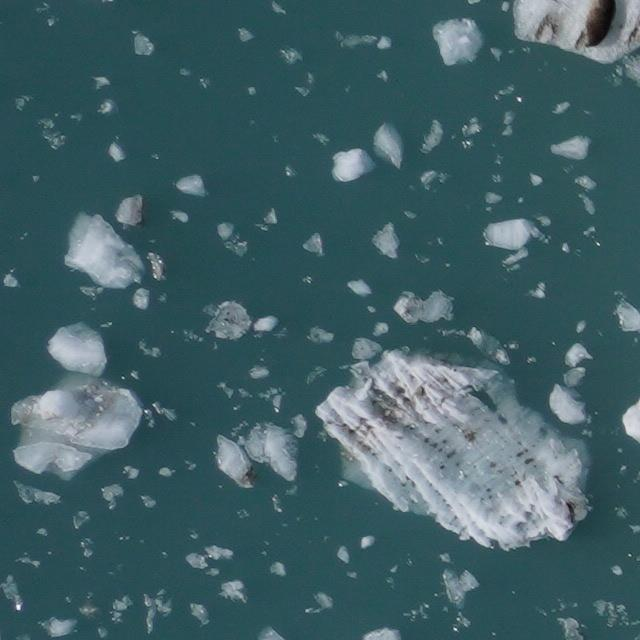seal: (575, 0, 615, 51)
